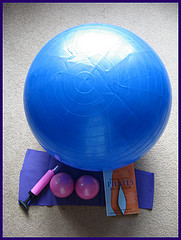blue ball: (23, 22, 173, 172)
